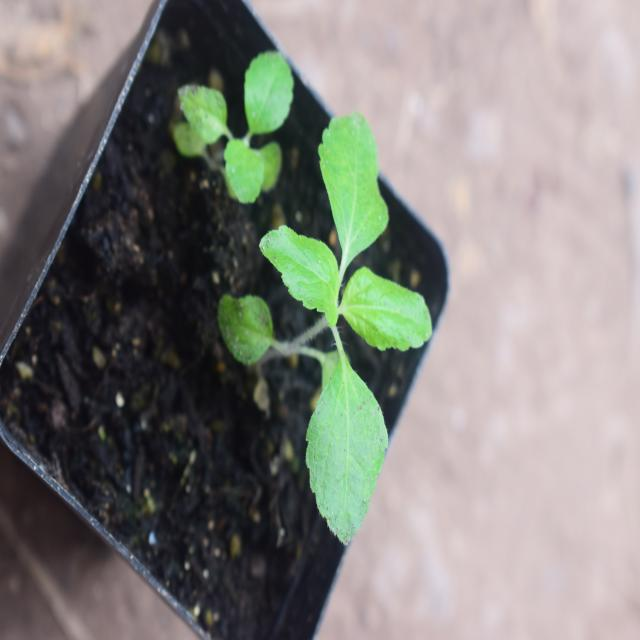billygoat_weed: (261, 103, 438, 541)
